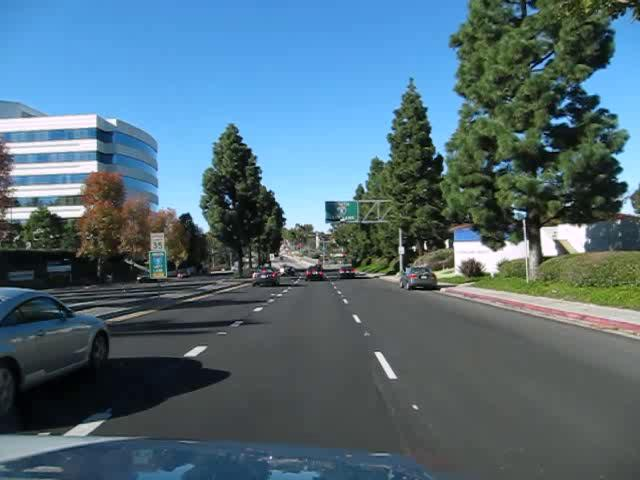speedLimit35: (149, 232, 164, 251)
